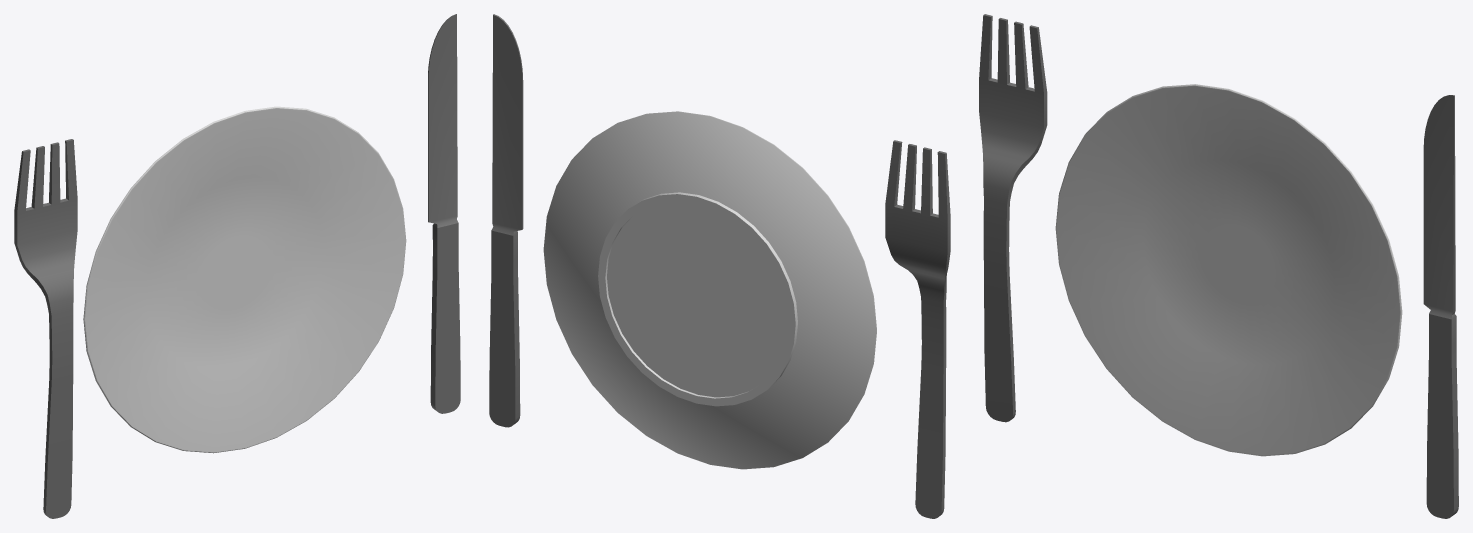
The model's file is fork_and_knife_with_plate.glb.
The picture shows the model from 3 angles, left to right: view 1: azimuth 30°, elevation 25°; view 2: azimuth 150°, elevation 25°; view 3: azimuth 330°, elevation 25°; orthographic projection. The views are drawn at different scales.
Visible parts, largest first — view 1: Circle.2319, Cube.447, Cube.449; view 2: Circle.2319, Cube.447, Cube.449; view 3: Circle.2319, Cube.447, Cube.449.
Part boxes in pixels (x1,y1,x2,y2): Circle.2319: (83,106,406,453); Cube.447: (14,139,77,518); Cube.449: (428,14,460,413); Circle.2319: (543,111,876,469); Cube.447: (885,140,950,518); Cube.449: (489,14,523,427); Circle.2319: (1055,84,1402,456); Cube.447: (979,14,1047,422); Cube.449: (1423,95,1458,518).
Size of the model in its own units: 1.99 by 1.7 by 0.241.
Materials: 1 (1 with a texture image).
